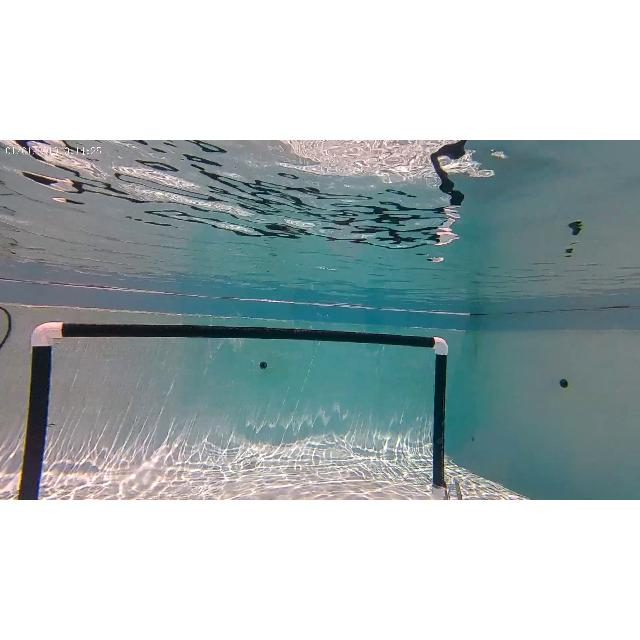prequal gate: (16, 322, 448, 500)
prequal gate leg l: (16, 324, 66, 500)
prequal gate leg r: (430, 336, 450, 500)
